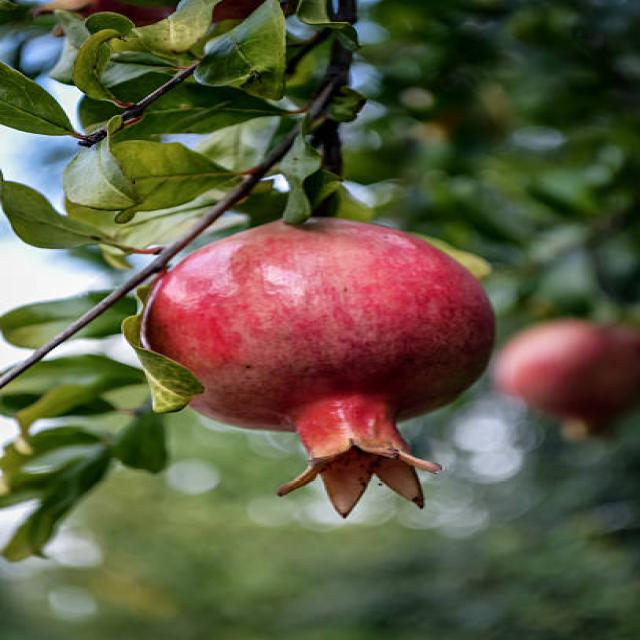Ripe: (128, 212, 511, 524)
